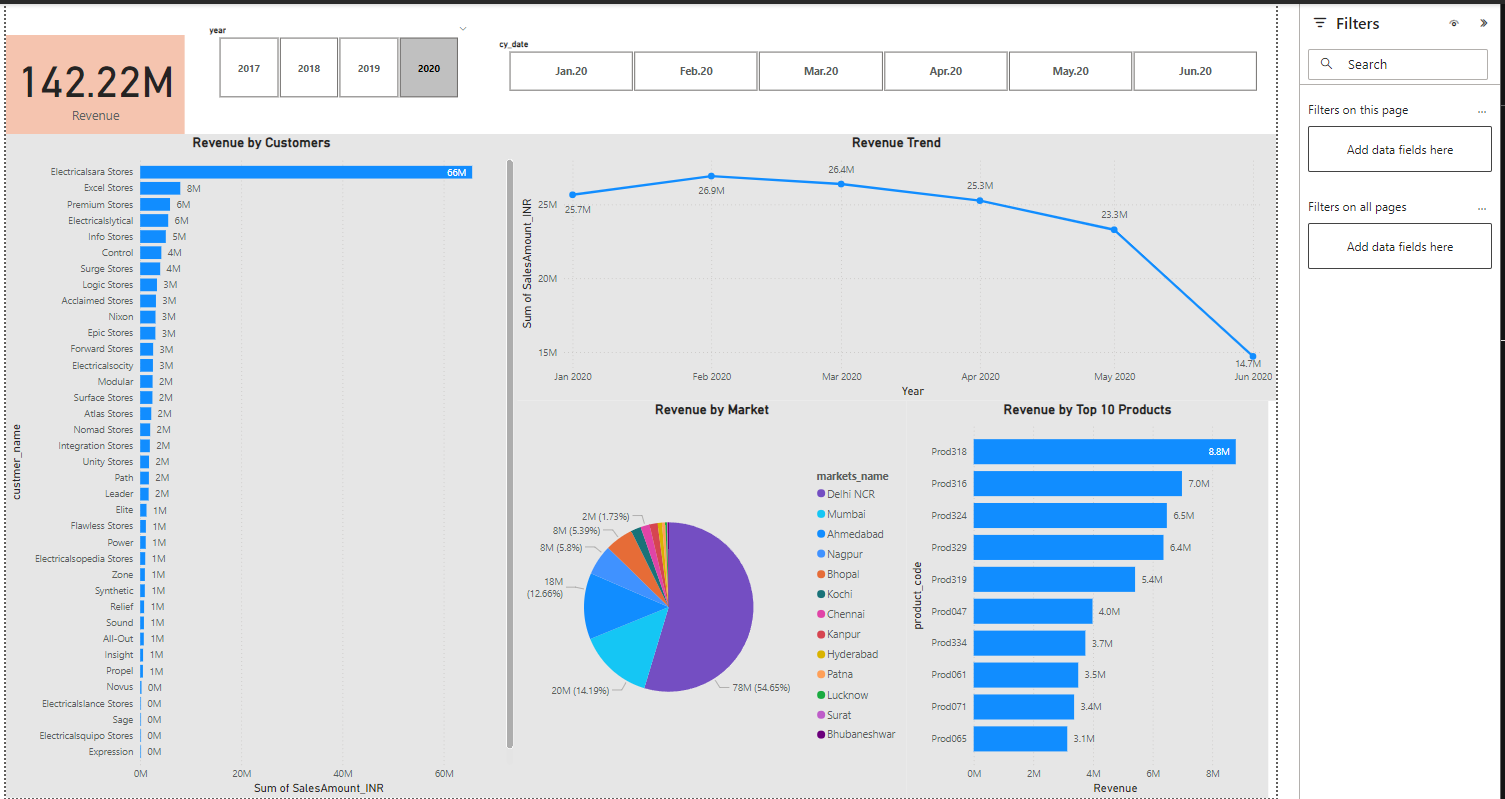

The dashboard page shown, as its layout file describes it:
{"tool":"powerbi","page":{"name":"Sales_insights","canvas":[1600,1000],"ordinal":0},"visuals":[{"type":"card","fields":{"Values":["Base_measures.Revenue"]},"box":[0,39,225.4,124.7],"z":0},{"type":"lineChart","title":"Revenue Trend","fields":{"Y":["Sum(sales transactions.SalesAmount_INR)"],"Category":["sales date.cy_date.Variation.Date Hierarchy.Year","sales date.cy_date.Variation.Date Hierarchy.Quarter","sales date.cy_date.Variation.Date Hierarchy.Month","sales date.cy_date.Variation.Date Hierarchy.Day"]},"box":[643.6,163.7,955.9,336.3],"z":1000},{"type":"pieChart","title":"Revenue by Market","fields":{"Category":["sales markets.markets_name"],"Y":["Sum(sales transactions.SalesAmount_INR)"]},"box":[643.6,500,491.2,500],"z":2000},{"type":"barChart","title":"Revenue by Customers","fields":{"Category":["sales customers.custmer_name"],"Y":["Sum(sales transactions.SalesAmount_INR)"]},"box":[0,163.7,643.6,836.3],"z":3000},{"type":"slicer","fields":{"Values":["sales date.year"]},"box":[243.1,21.4,350.1,103.3],"z":4000},{"type":"slicer","fields":{"Values":["sales date.cy_date"]},"box":[608.3,39,991.2,76.8],"z":5000},{"type":"barChart","title":"Revenue by Top 10 Products","fields":{"Category":["sales transactions.product_code"],"Y":["Base_measures.Revenue"]},"box":[1134.8,500,454.7,500],"z":6000}]}

Visuals, with their boxes on the page's 1600x1000 design canvas (x1, y1, x2, y2). These are canvas units, not pixel positions in the 1505x799 screenshot, which may show the page scaled, cropped or inside an application window:
card - Base_measures.Revenue: box(0, 39, 225, 164)
"Revenue Trend" lineChart: box(644, 164, 1600, 500)
"Revenue by Market" pieChart: box(644, 500, 1135, 1000)
"Revenue by Customers" barChart: box(0, 164, 644, 1000)
slicer - sales date.year: box(243, 21, 593, 125)
slicer - sales date.cy_date: box(608, 39, 1600, 116)
"Revenue by Top 10 Products" barChart: box(1135, 500, 1590, 1000)
